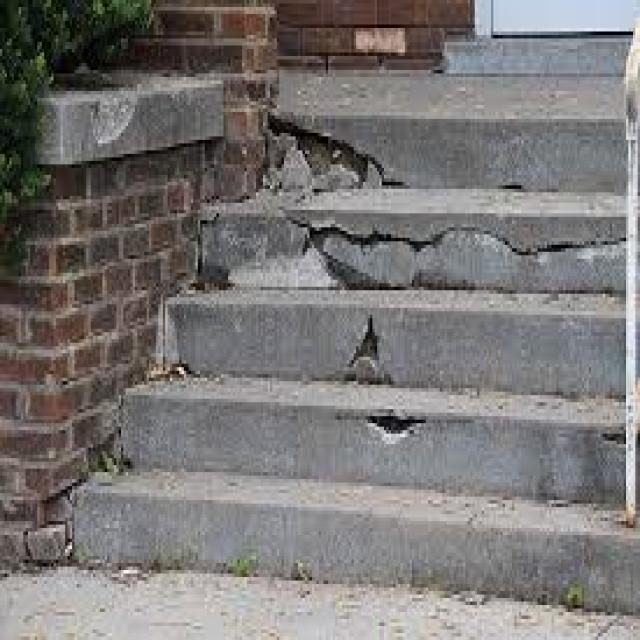Crack: (284, 210, 626, 262), (261, 105, 407, 192), (337, 406, 468, 444), (347, 304, 384, 374)
